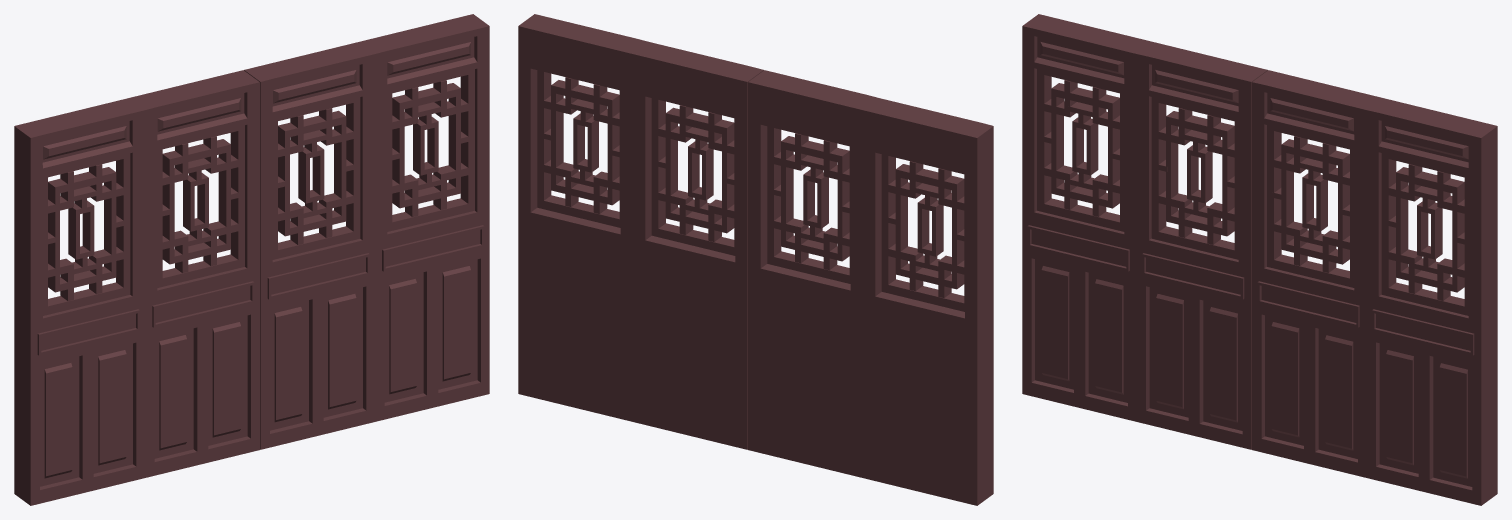
Rendered from hall_door.fbx.
3 views of the same model, side by side, from view 1: azimuth 30°, elevation 25°; view 2: azimuth 150°, elevation 25°; view 3: azimuth 330°, elevation 25° (orthographic).
Visible parts, largest first — view 1: Cube.054, Cube.064, Cube.058, Cube.043; view 2: Cube.054, Cube.064, Cube.058, Cube.043; view 3: Cube.058, Cube.043, Cube.054, Cube.064.
Part boxes in pixels (x1,y1,x2,y2): Cube.054: (14,98,145,505); Cube.064: (244,42,375,449); Cube.058: (359,14,489,421); Cube.043: (129,70,259,477); Cube.054: (862,98,993,505); Cube.064: (632,42,763,449); Cube.058: (518,14,648,421); Cube.043: (748,70,878,477); Cube.058: (1366,98,1497,505); Cube.043: (1136,42,1267,449); Cube.054: (1022,14,1152,421); Cube.064: (1252,70,1382,477).
Size of the model in its own units: 386 by 295 by 26.09.
